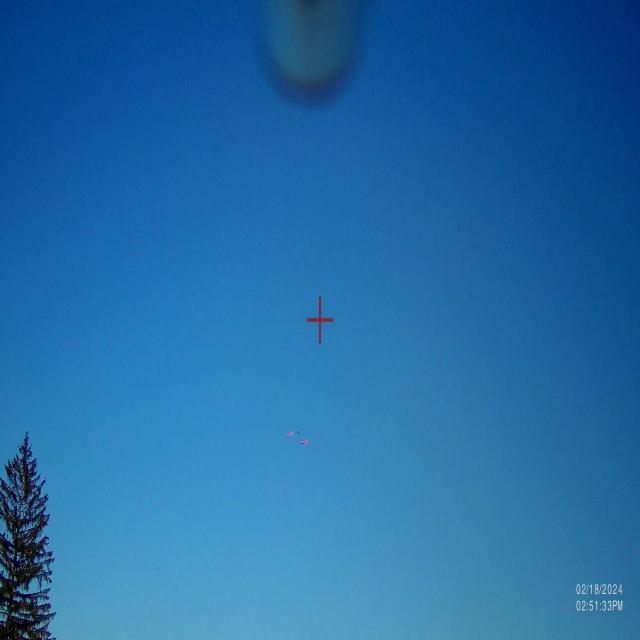broken: (281, 420, 316, 459)
